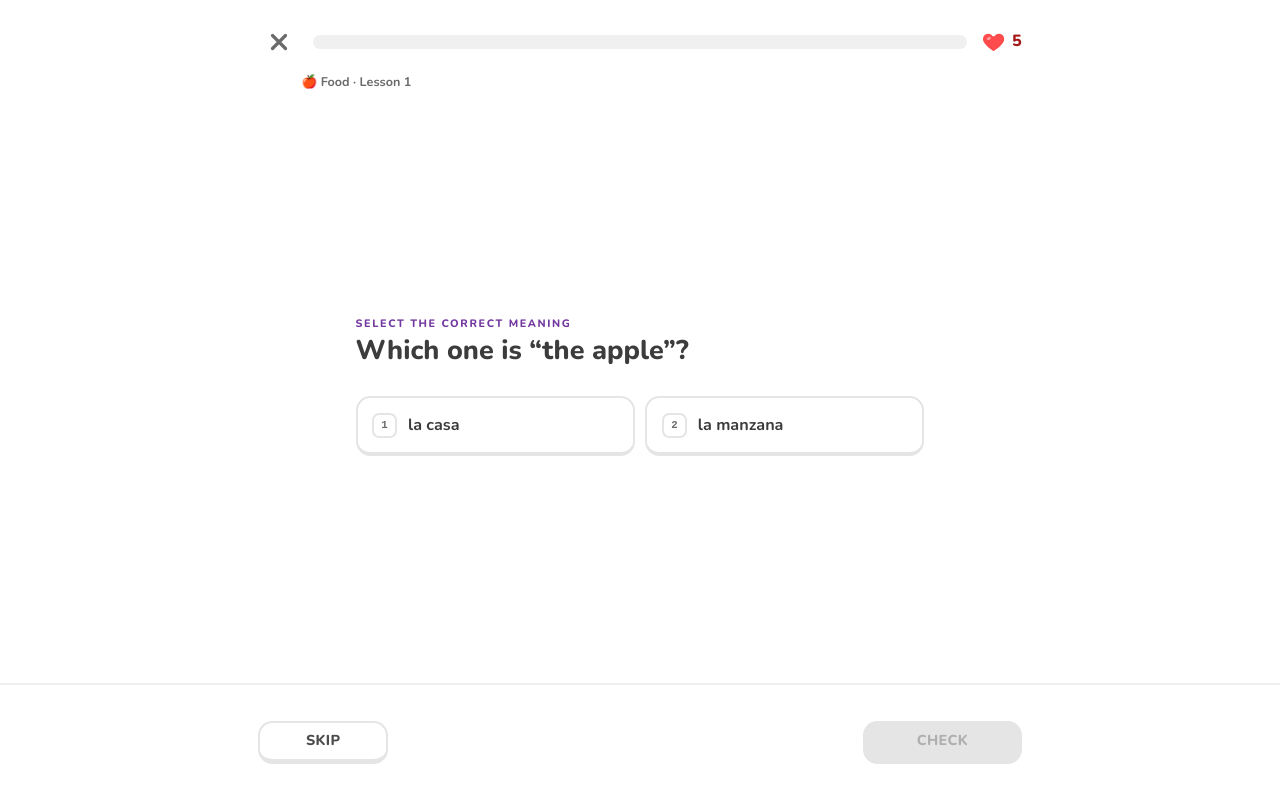
Test: LessonPlayer › keeps the learner's answer when the network fails, and the retry succeeds
Click the radio button labelled "2 la manzana" at (785, 426), box [645,396,924,456]
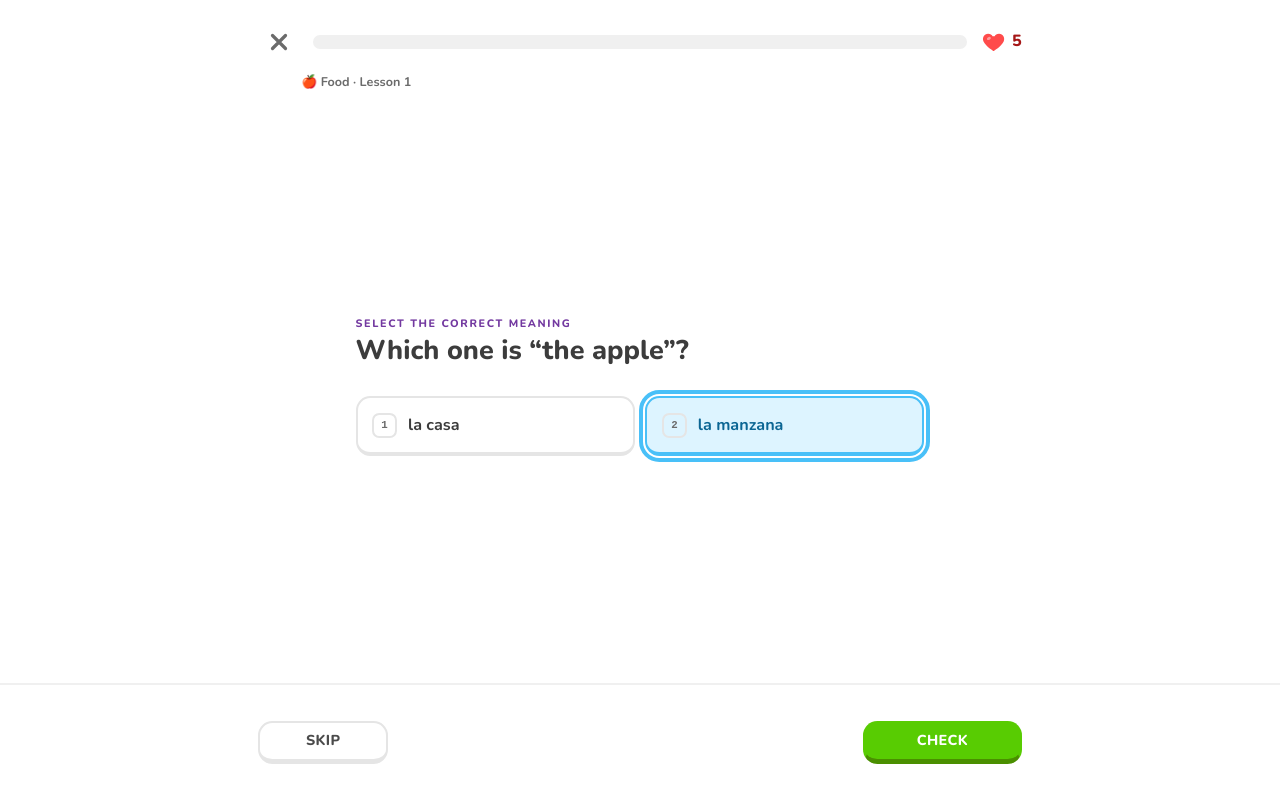
Click the button "Check" at (942, 742), box [863,721,1022,764]
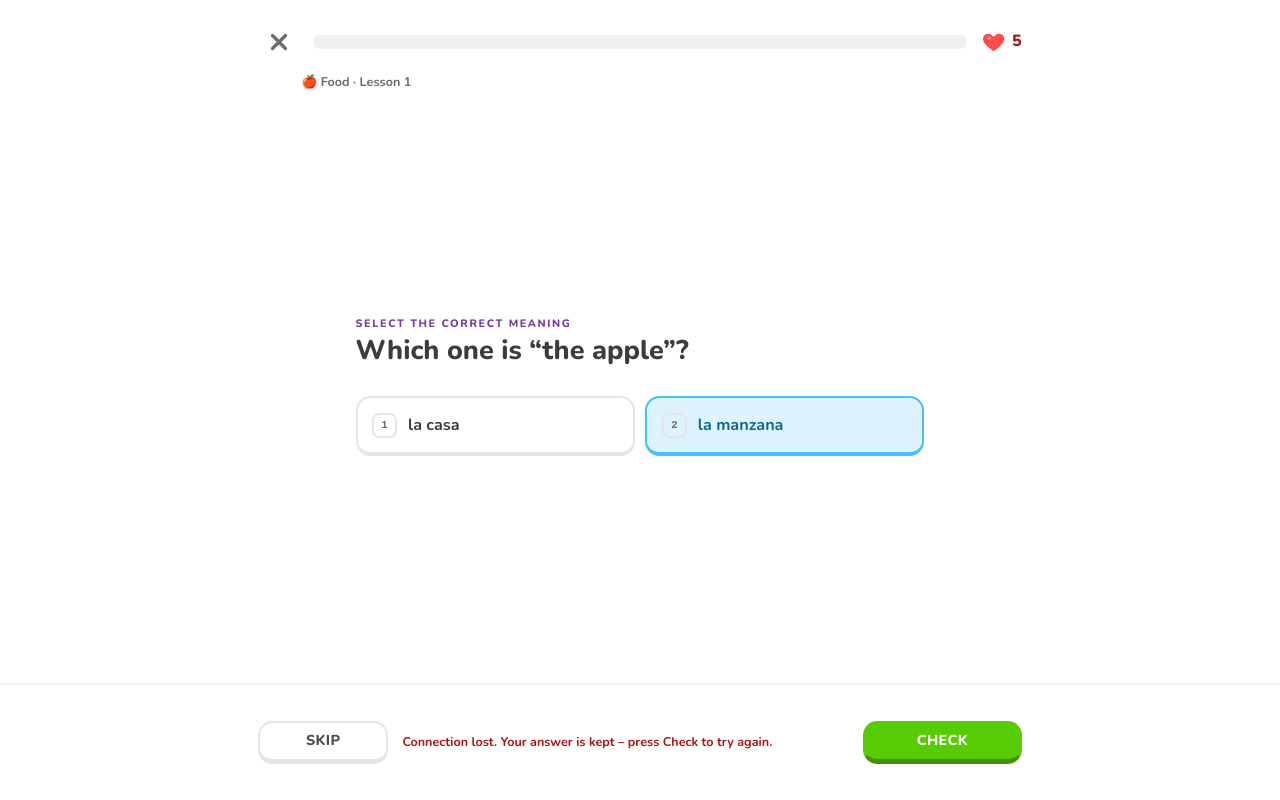
Now the message "Connection lost. Your answer is kept – press Check to try again." is shown, box [402,733,772,750]
Click the button "Check" at (942, 742), box [863,721,1022,764]
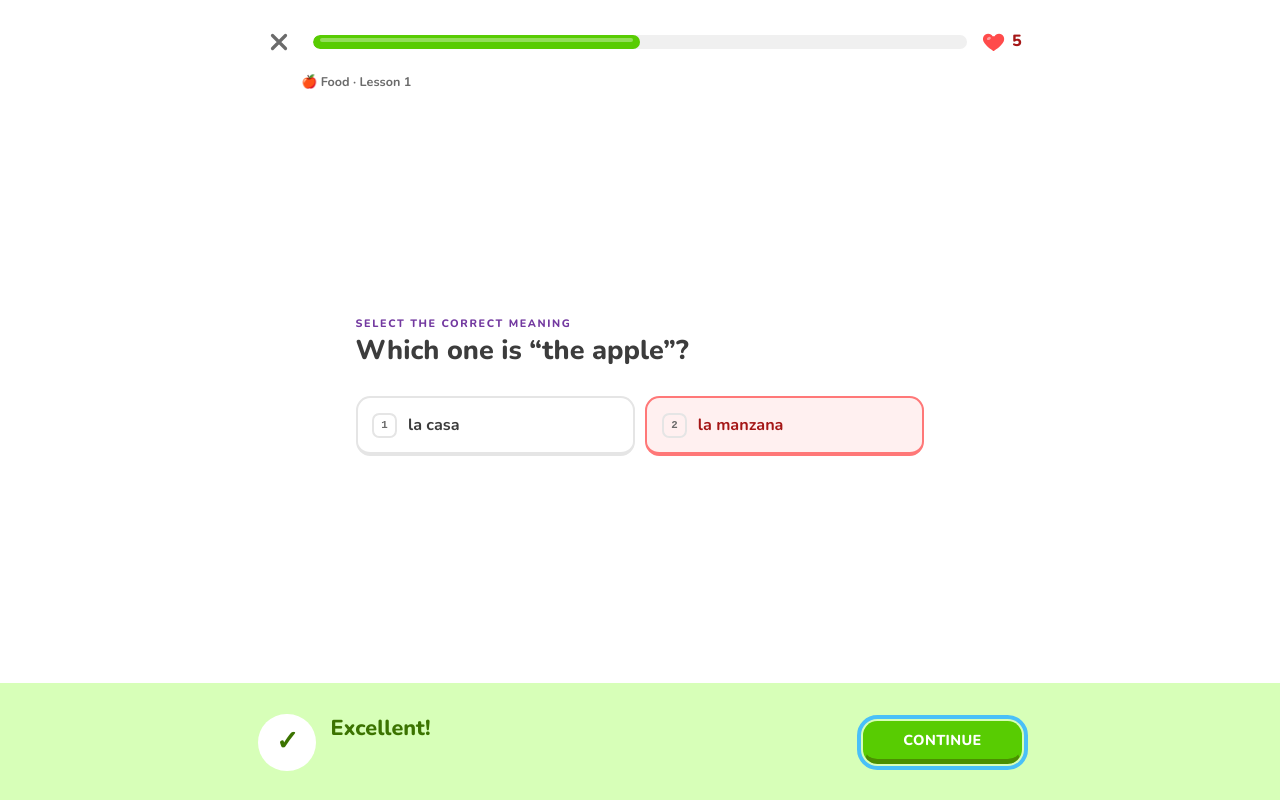
Now the button "Continue" is shown, box [863,721,1022,764]
Now the text "Connection lost" is gone
